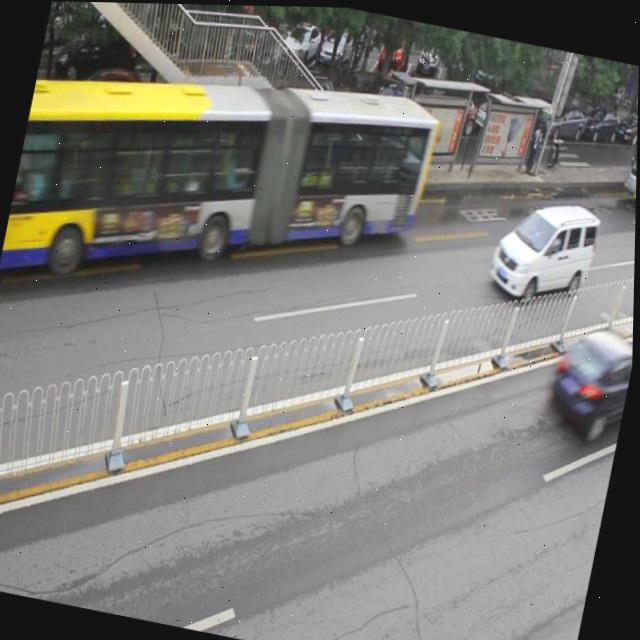car: (540, 314, 635, 444), (52, 58, 152, 150), (151, 71, 253, 154), (344, 82, 431, 169), (268, 69, 354, 155), (26, 76, 44, 135)
truck: (481, 186, 604, 310)
van: (0, 21, 447, 351), (616, 76, 639, 216)
